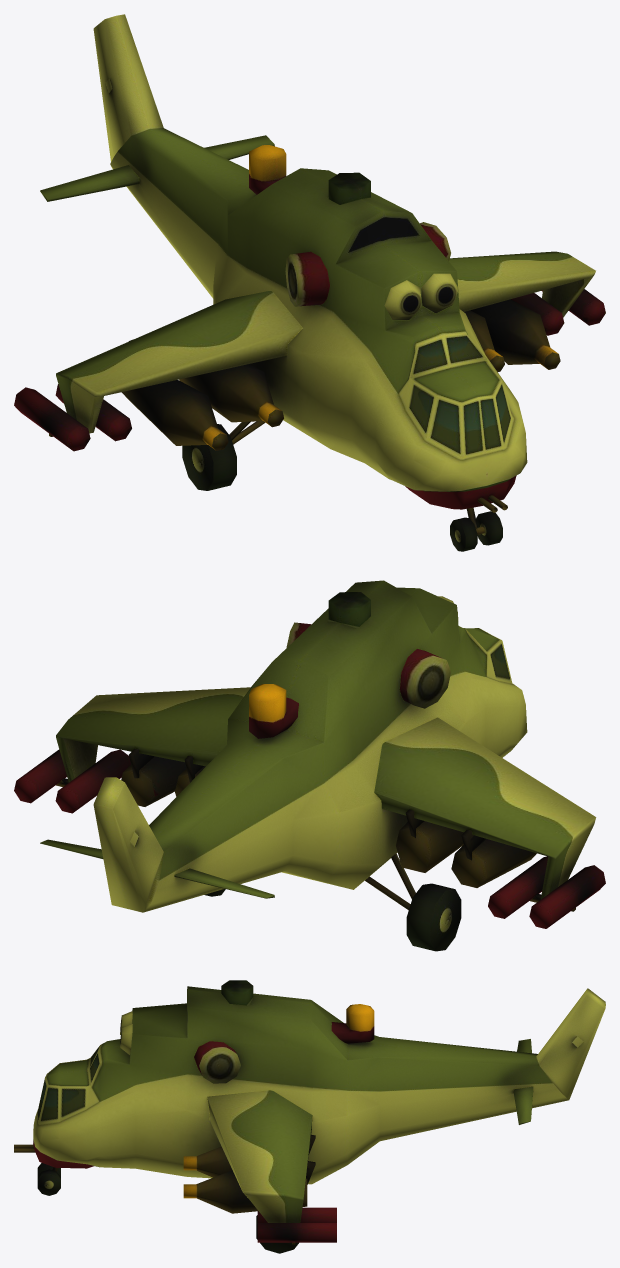
Rendered from chopper.obj.
The picture shows the model from 3 angles, top to bottom: view 1: azimuth 30°, elevation 25°; view 2: azimuth 150°, elevation 25°; view 3: azimuth 270°, elevation 25°; orthographic projection. The views are drawn at different scales.
Parts seen in each view (by area): view 1: cartoon_Mi24; view 2: cartoon_Mi24; view 3: cartoon_Mi24.
Boxes of the visible parts, left/top/right/bottom form: cartoon_Mi24: left=14, top=14, right=605, bottom=551; cartoon_Mi24: left=14, top=580, right=605, bottom=951; cartoon_Mi24: left=14, top=980, right=605, bottom=1253.
Bounding box in the file's own units: 41.8 × 22.19 × 53.4.
Materials: 1 (1 with a texture image).
